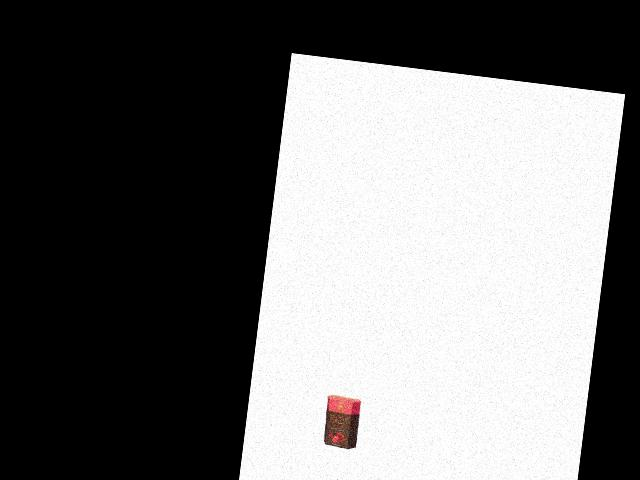chocolate: (320, 392, 363, 455)
